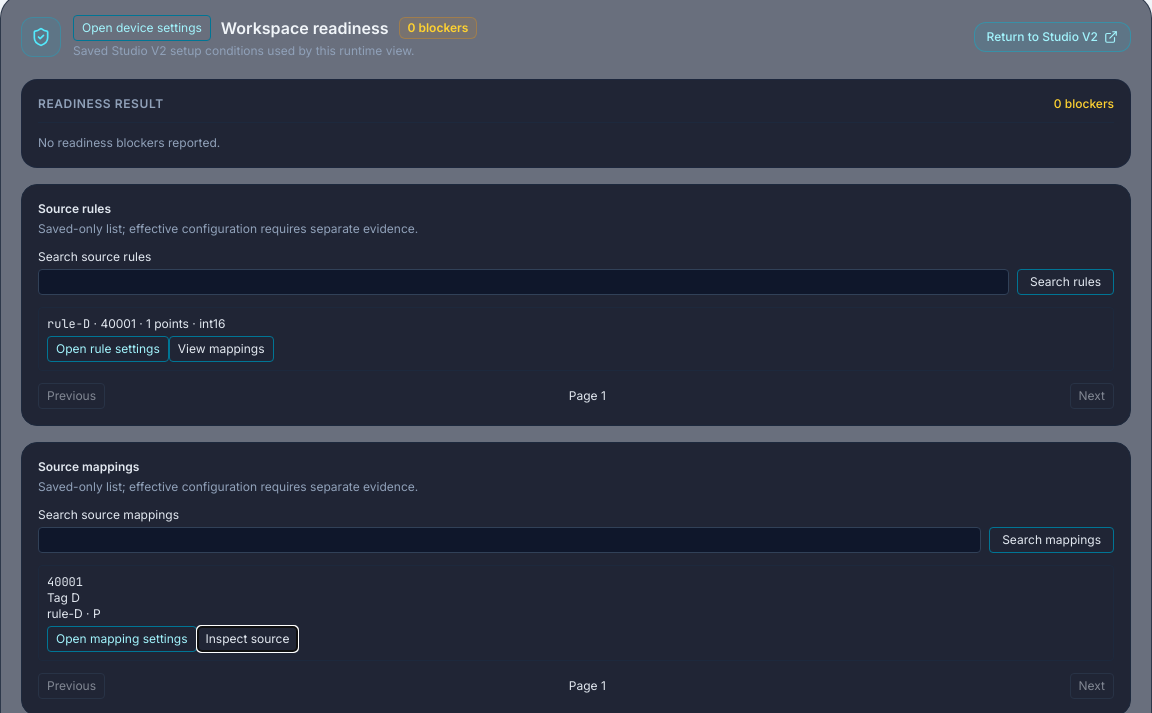
Test: single selected-device source inspection › opens exact saved R2 scale and separates polling 1000 ms from recording mean / 15 seconds
Click the button with aria-label "Inspect source 40001" at (248, 639), box left=196, top=626, right=298, bottom=652
(page scrolled)
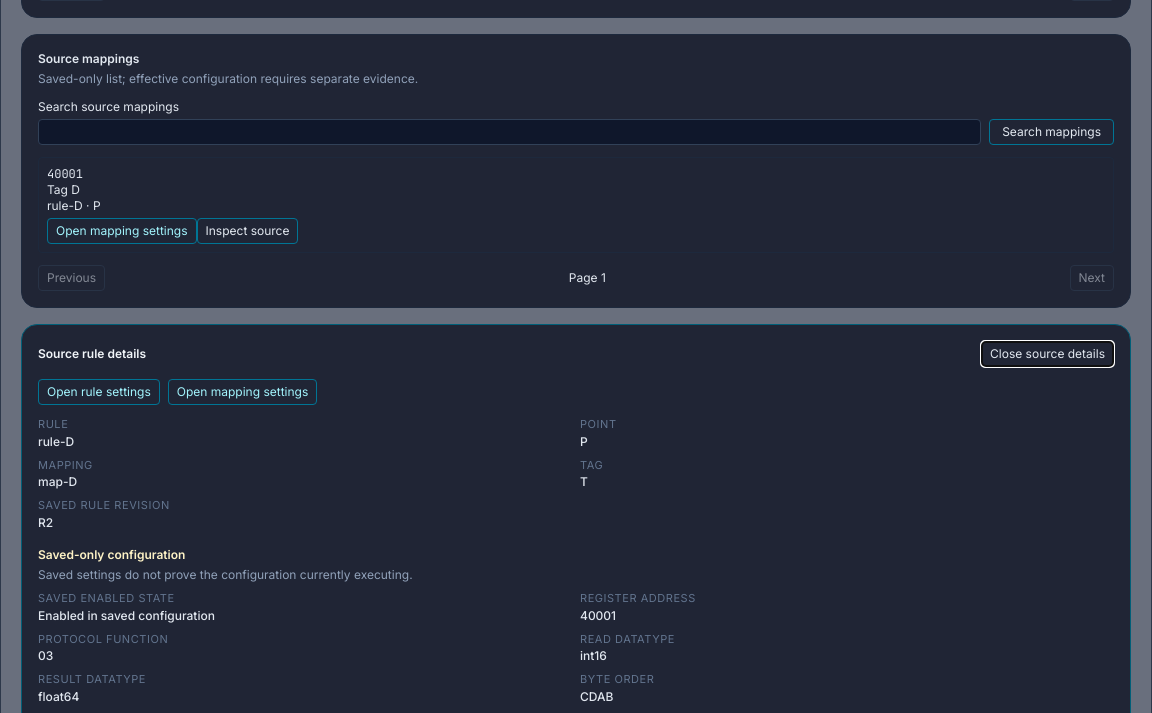
Result: the heading "Saved-only configuration" is shown at left=38, top=547, right=185, bottom=562
Result: the text "CDAB" is shown at left=580, top=689, right=613, bottom=704
Result: the text "R2" is shown at left=38, top=515, right=53, bottom=530
Click the button "Close source details" at (1048, 354), box left=981, top=341, right=1114, bottom=367
(page scrolled)
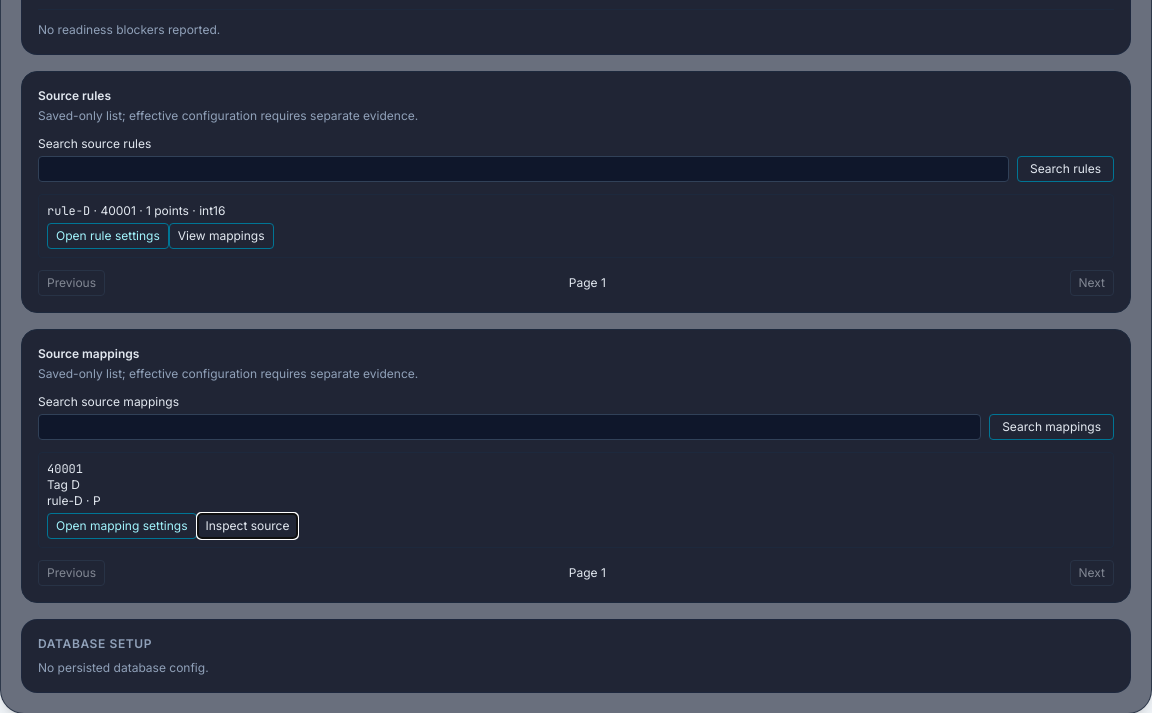
Result: the heading "Source rule details" is gone
